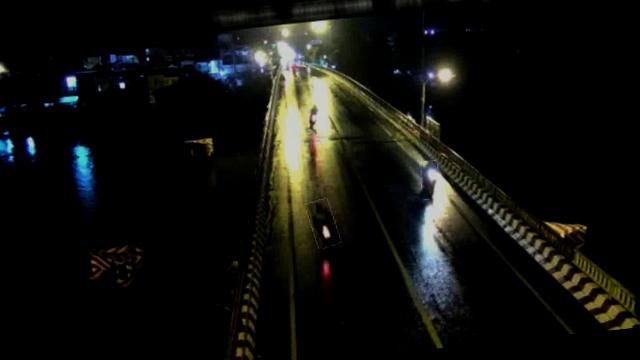Bike: (307, 198, 340, 250), (419, 160, 440, 201), (306, 104, 321, 131)
